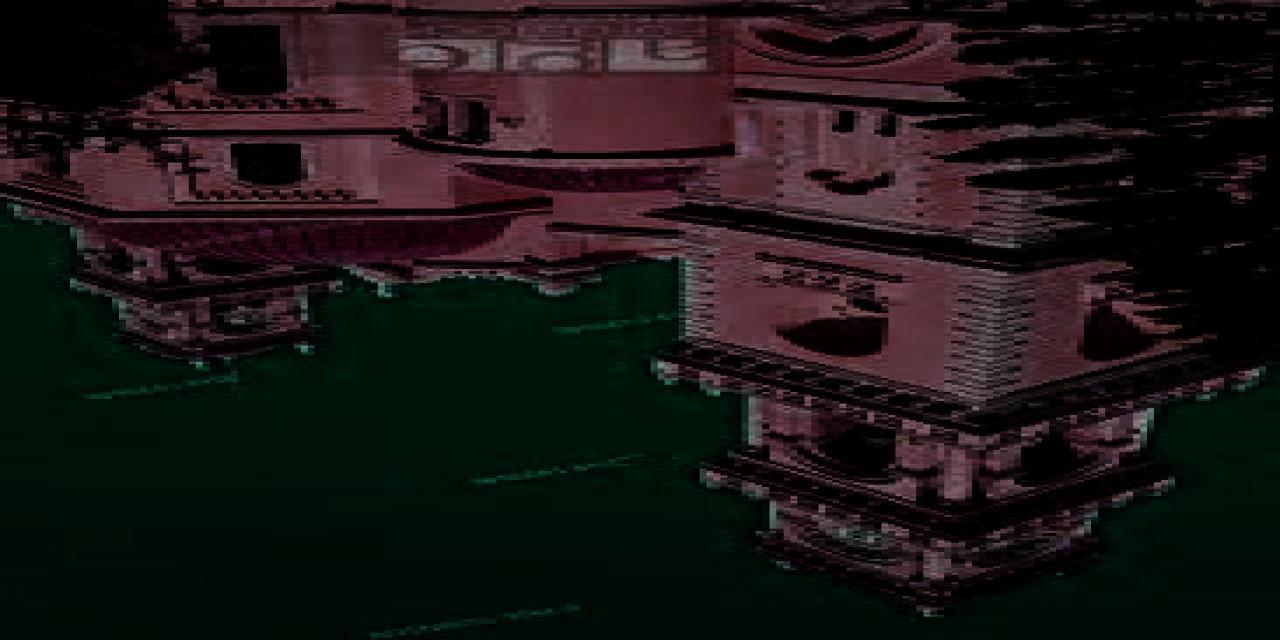Agios Minas: (1, 1, 1265, 622)
